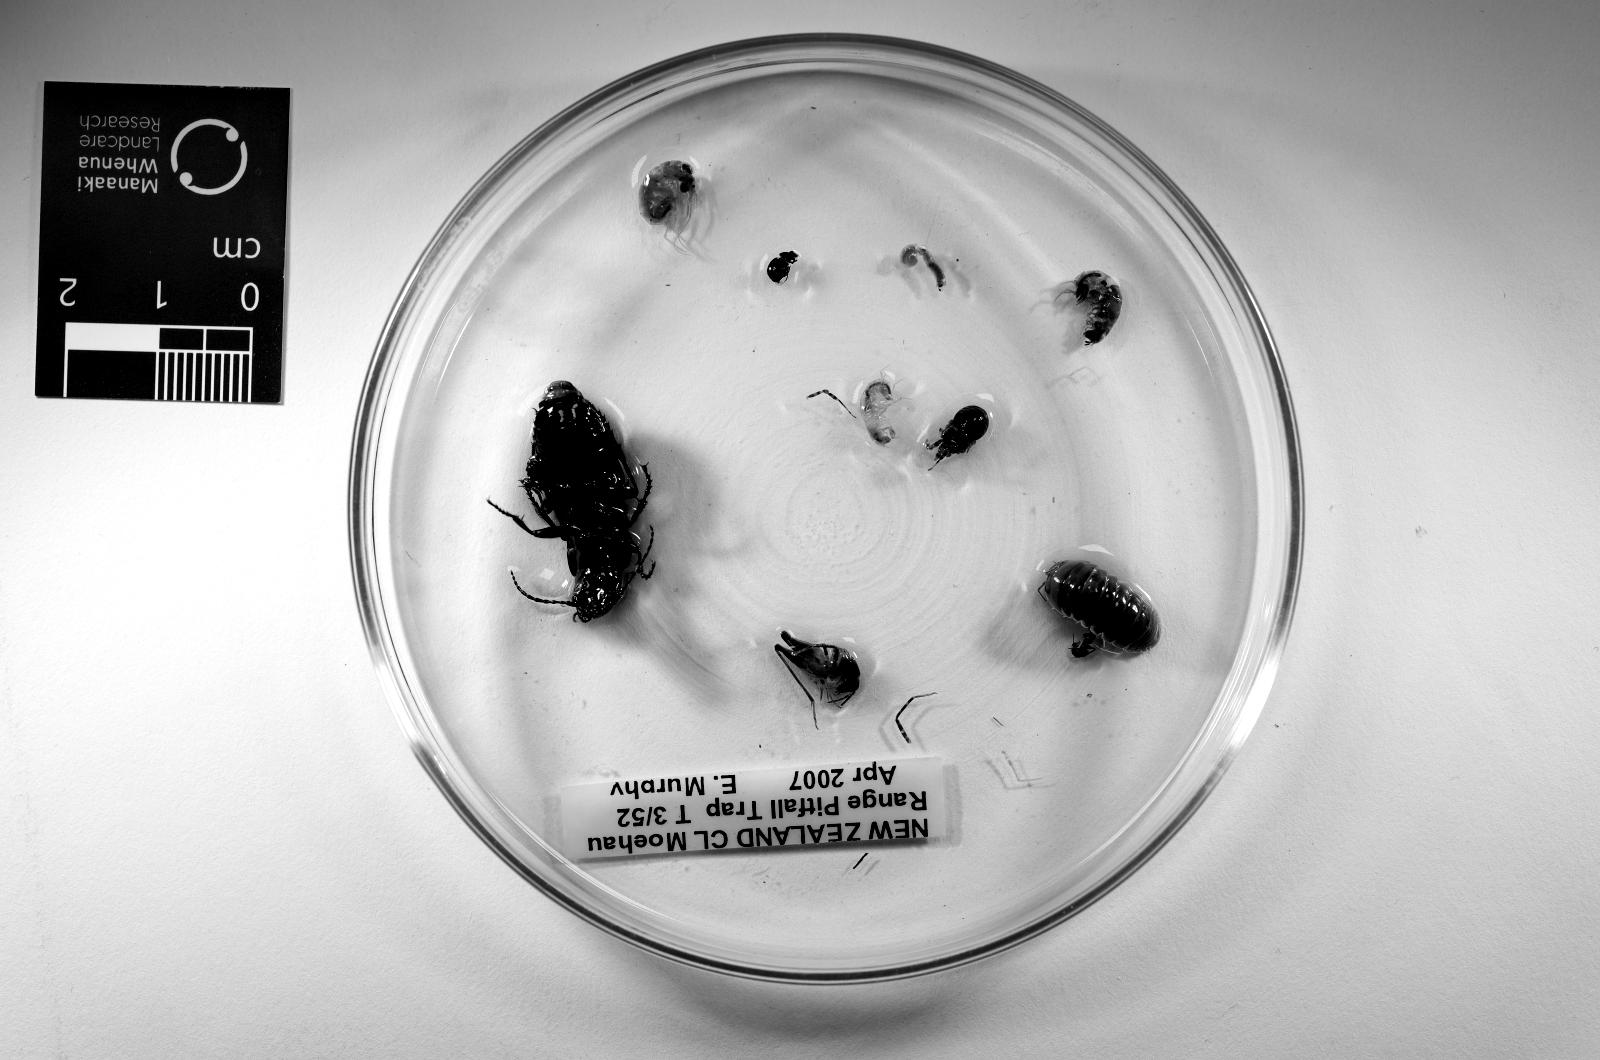amphipoda: (638, 161, 697, 236), (1075, 270, 1122, 345), (862, 379, 894, 444)
carabidae: (503, 382, 653, 621)
coleoptera: (766, 252, 797, 283)
formicidae: (1069, 634, 1097, 658)
isopoda: (1041, 559, 1162, 652)
opiliones: (925, 407, 991, 466)
orthoptera: (775, 634, 859, 708)
